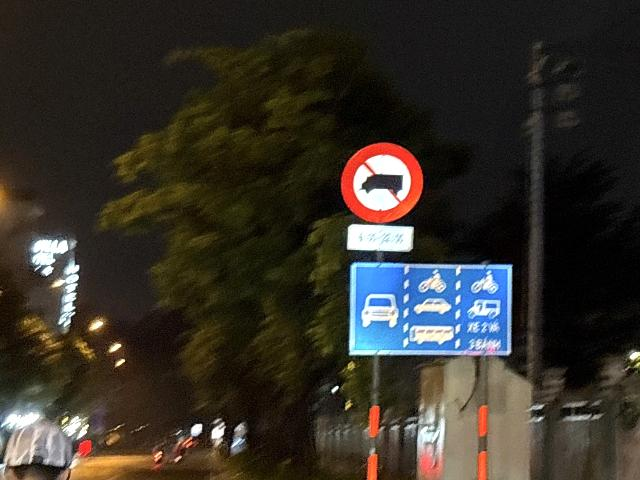cam-xe-tai: (340, 141, 423, 224)
